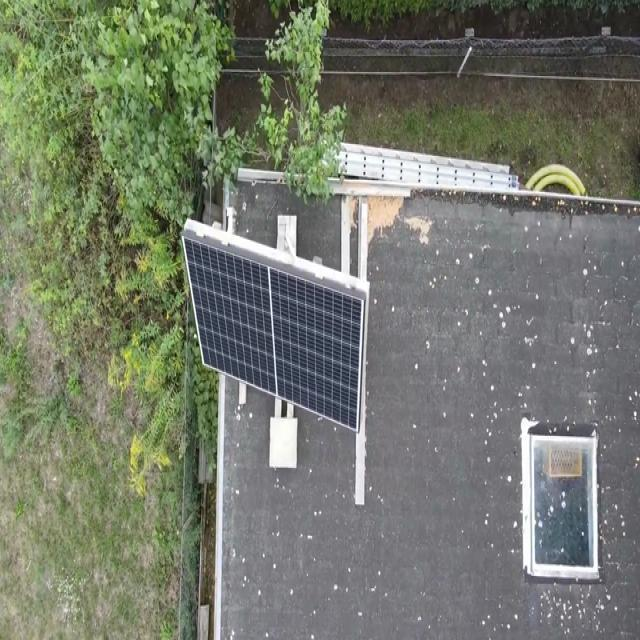Normal Solar Panel: (186, 237, 364, 429)
